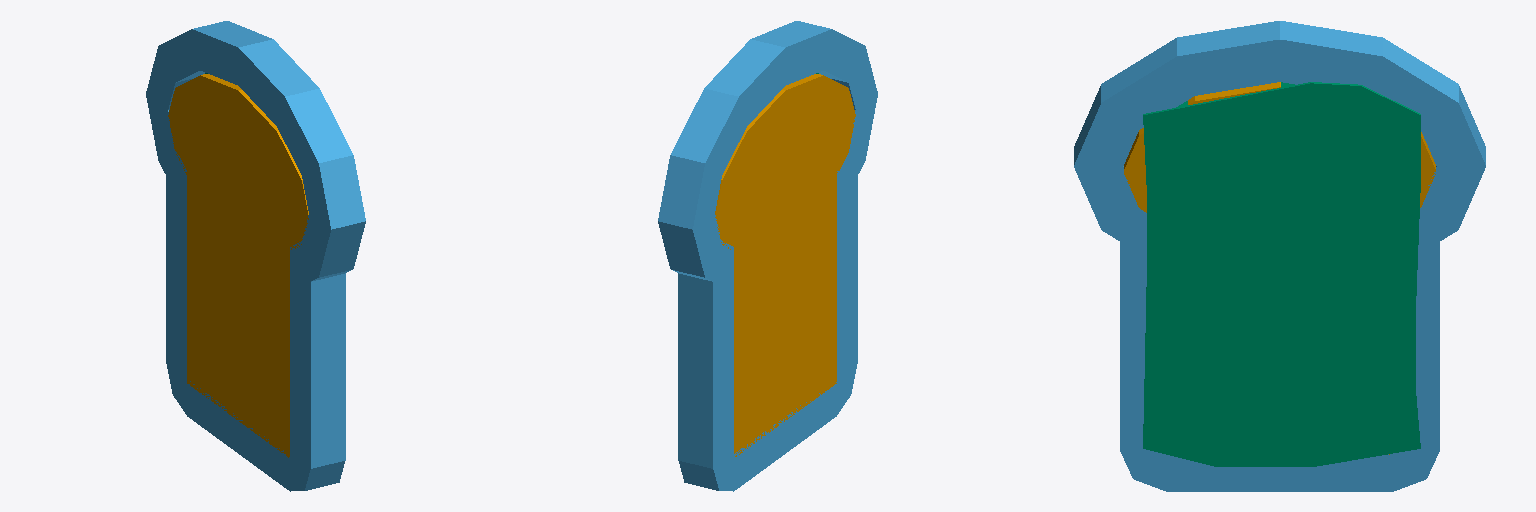
robot.urdf — bread_slice:
<?xml version="1.0"?>
<robot name="bread_slice">
  <link name="core">
    <inertial>
        <origin rpy="0 0 0" xyz="0 0 0"/>
        <mass value="0.02"/>
        <inertia ixx="4.4e-5" ixy="0" ixz="0" iyy="0" iyz="0" izz="4.4e-5"/>
    </inertial>
    <visual>
      <geometry>
        <mesh filename="slice_core.obj"/>
      </geometry>
    </visual>
    <collision>
      <geometry>
        <mesh filename="slice_core.obj"/>
      </geometry>
      <surface>
           <bounce restitution_coefficient = "0.1"/>
      </surface>
    </collision>
  </link>
  <link name="crust">
    <inertial>
        <origin rpy="0 0 0" xyz="0 0 0"/>
        <mass value="0.002"/>
        <inertia ixx="4.4e-5" ixy="0" ixz="0" iyy="0" iyz="0" izz="4.4e-5"/>
    </inertial>
    <visual>
      <geometry>
        <mesh filename="slice_crust.obj"/>
      </geometry>
    </visual>
    <collision>
      <geometry>
        <mesh filename="slice_crust.obj"/>
      </geometry>
      <surface>
           <bounce restitution_coefficient = "0.1"/>
      </surface>
    </collision>
  </link>
  <link name="butter">
    <inertial>
        <origin rpy="0 0 0" xyz="0 0 0"/>
        <mass value="0.002"/>
        <inertia ixx="4.4e-5" ixy="0" ixz="0" iyy="0" iyz="0" izz="4.4e-5"/>
    </inertial>
    <visual>
      <geometry>
        <mesh filename="slice_butter.obj"/>
      </geometry>
    </visual>
    <collision>
      <geometry>
        <mesh filename="slice_butter.obj"/>
      </geometry>
      <surface>
           <bounce restitution_coefficient = "0.1"/>
      </surface>
    </collision>
  </link>
  <joint name="core_to_crust" type="fixed">
    <parent link="core"/>
    <child link="crust"/>
    <origin rpy="0 0 0" xyz="0 0 -0.011"/>
  </joint>
  <joint name="core_to_butter" type="fixed">
    <parent link="core"/>
    <child link="butter"/>
    <origin rpy="0 0 0" xyz="0.005 0.009 -0.021"/>
  </joint>
</robot>

--- Facts derived from the render (not from the file) ---
The picture shows the robot from 3 angles, left to right: view 1: azimuth 30°, elevation 25°; view 2: azimuth 150°, elevation 25°; view 3: azimuth 270°, elevation 25°; orthographic projection.
Robot: bread_slice — 3 links, 2 joints (2 fixed); root link core; default pose: every joint at zero.
Links seen in each view (by area): view 1: crust, core; view 2: crust, core; view 3: butter, crust, core.
Boxes of the visible links, x1,y1,x2,y2 form: crust: (146,21,365,491); core: (168,74,308,457); crust: (658,21,877,491); core: (715,74,855,456); butter: (1143,82,1420,466); crust: (1074,21,1485,491); core: (1124,82,1435,454).
Bounding box of the posed robot: 0.016 × 0.1372 × 0.1659 m (x, y, z).
Meshes: 3 distinct files referenced, 3 mesh visuals loaded (3 OBJ).
